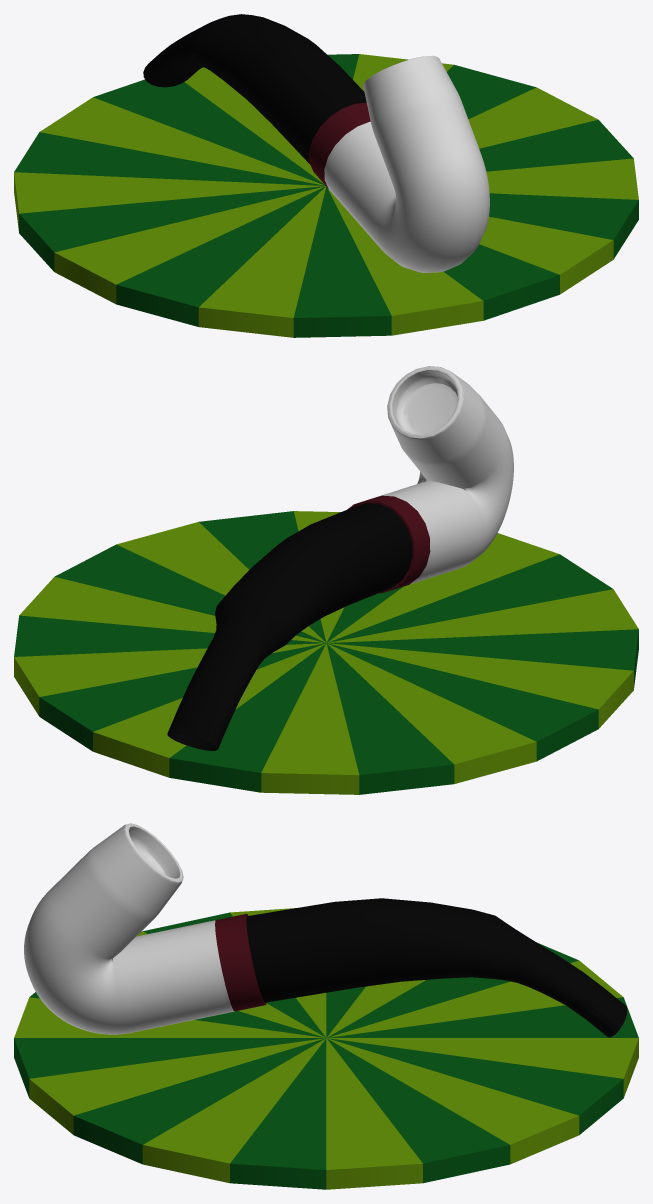
The model's file is Sherlock.fbx.
3 views of the same model, one above another, from view 1: azimuth 30°, elevation 25°; view 2: azimuth 150°, elevation 25°; view 3: azimuth 270°, elevation 25° (orthographic).
Parts seen in each view (by area): view 1: pCylinder1, pCylinder2; view 2: pCylinder1, pCylinder2; view 3: pCylinder1, pCylinder2.
Part boxes in pixels (x1,y1,x2,y2): pCylinder1: [14, 54, 638, 337]; pCylinder2: [143, 14, 489, 272]; pCylinder1: [14, 511, 638, 794]; pCylinder2: [167, 366, 513, 750]; pCylinder1: [14, 908, 638, 1189]; pCylinder2: [24, 823, 627, 1037].
Bounding box in the file's own units: 4.33 × 1.71 × 4.33.
